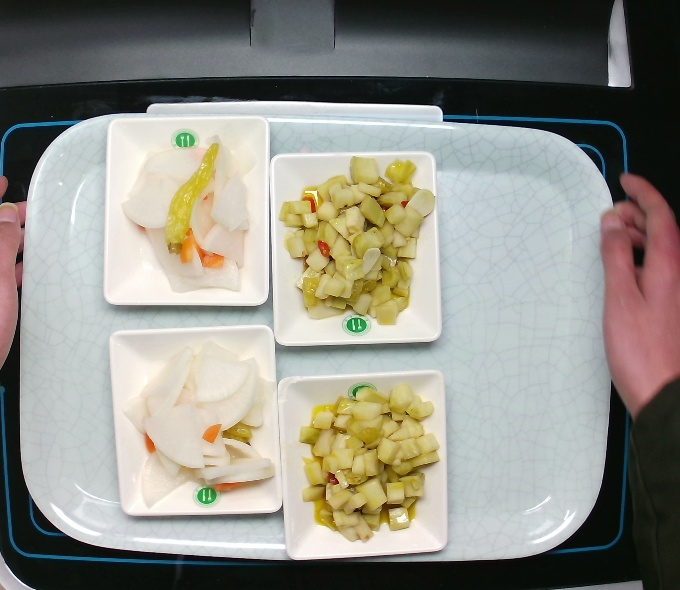wcq-LuLuoBo: (117, 330, 281, 504), (119, 119, 265, 301)
wcq-TangCuOu: (272, 148, 437, 331), (293, 365, 447, 546)
